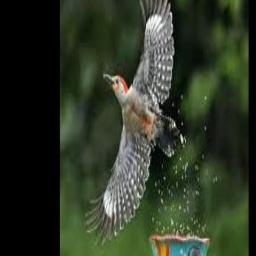Woodpecker: (85, 0, 181, 242)
